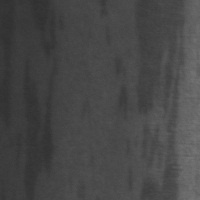inclusion: (135, 0, 183, 199), (18, 2, 57, 198), (107, 52, 129, 123), (79, 94, 95, 125)
